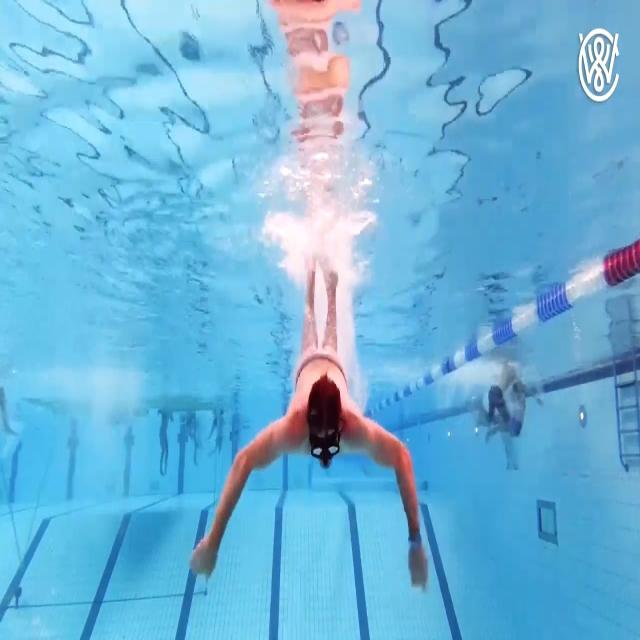Swimming: (189, 256, 429, 595), (477, 361, 520, 429)
